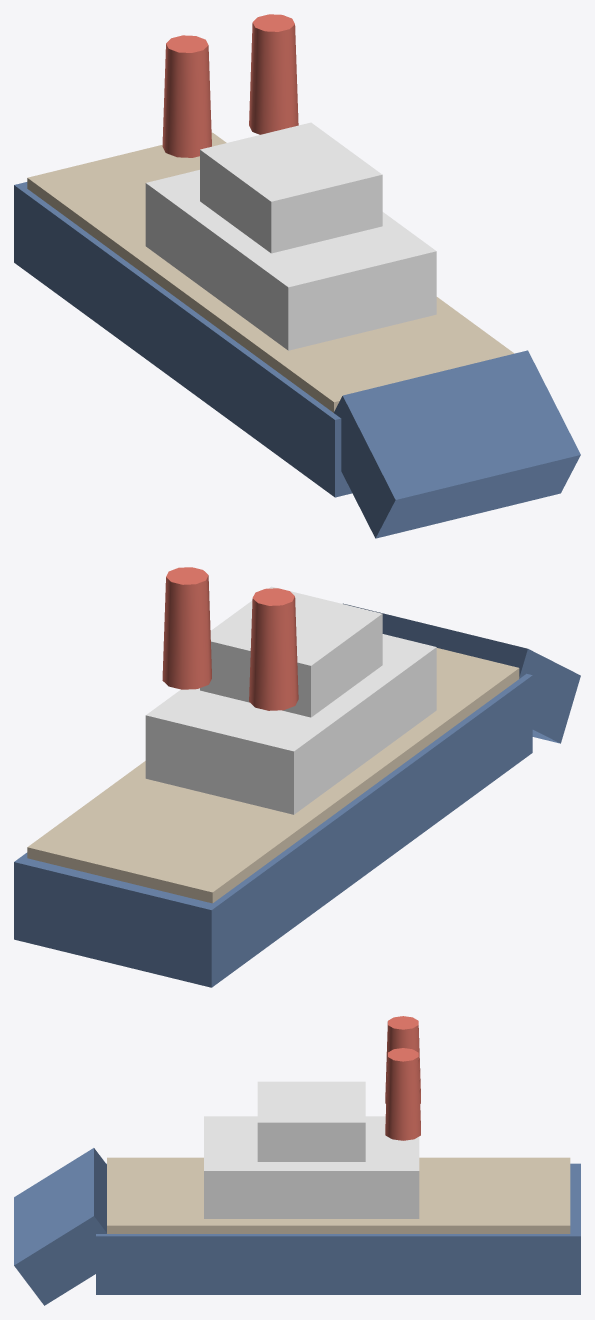
Rendered from navio.glb.
3 renders of one model, top to bottom at view 1: azimuth 30°, elevation 25°; view 2: azimuth 150°, elevation 25°; view 3: azimuth 270°, elevation 25°, orthographic. The views are drawn at different scales.
Parts seen in each view (by area): view 1: root; view 2: root; view 3: root.
Boxes of the visible parts, x1,y1,x2,y2 form: root: (14, 14, 580, 538); root: (14, 567, 580, 987); root: (14, 1016, 580, 1305).
Bounding box in the file's own units: 3.2 × 4.77 × 10.53.
